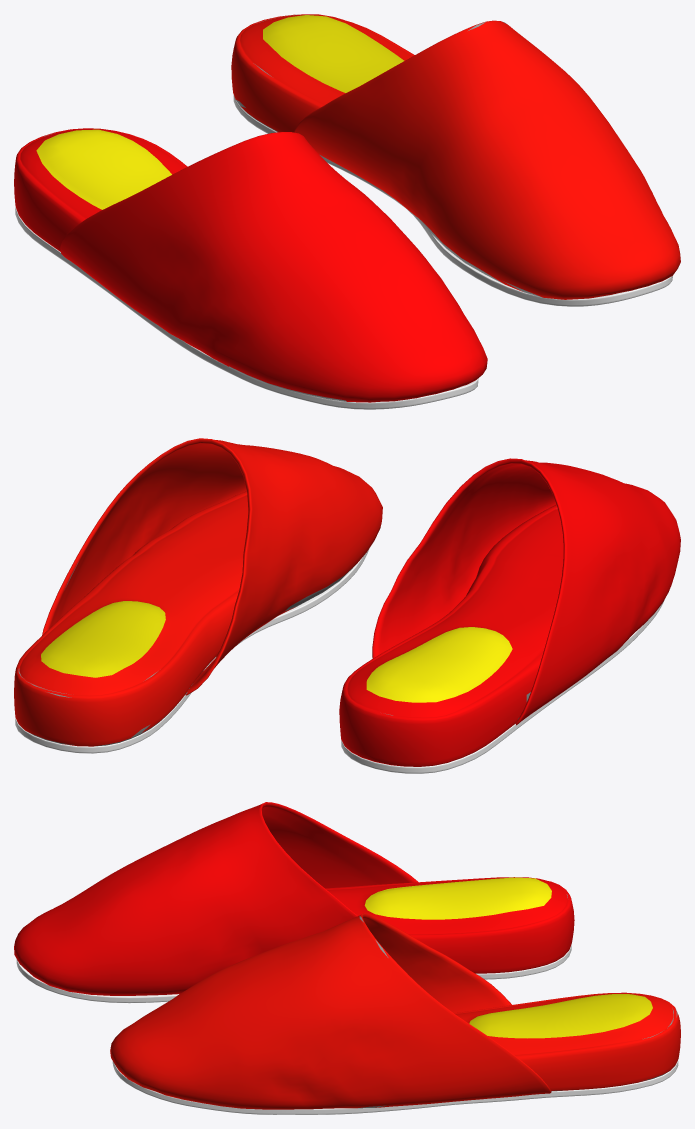
File: women shoes1 .fbx
3 views of the same model, one above another, from view 1: azimuth 30°, elevation 25°; view 2: azimuth 150°, elevation 25°; view 3: azimuth 270°, elevation 25° (orthographic). The views are drawn at different scales.
Parts seen in each view (by area): view 1: Slippers_rubber_1.001, Slippers_rubber_1; view 2: Slippers_rubber_1.001, Slippers_rubber_1; view 3: Slippers_rubber_1, Slippers_rubber_1.001.
Part boxes in pixels (x1,y1,x2,y2): Slippers_rubber_1.001: (14,128,487,409); Slippers_rubber_1: (231,14,680,306); Slippers_rubber_1.001: (339,458,680,773); Slippers_rubber_1: (14,438,382,753); Slippers_rubber_1: (110,913,680,1114); Slippers_rubber_1.001: (14,802,574,1003).
Bounding box in the file's own units: 8.82 × 3.27 × 12.56.
